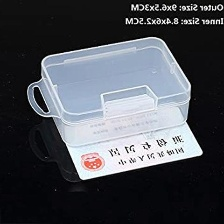plastic_box: (21, 30, 198, 152)
